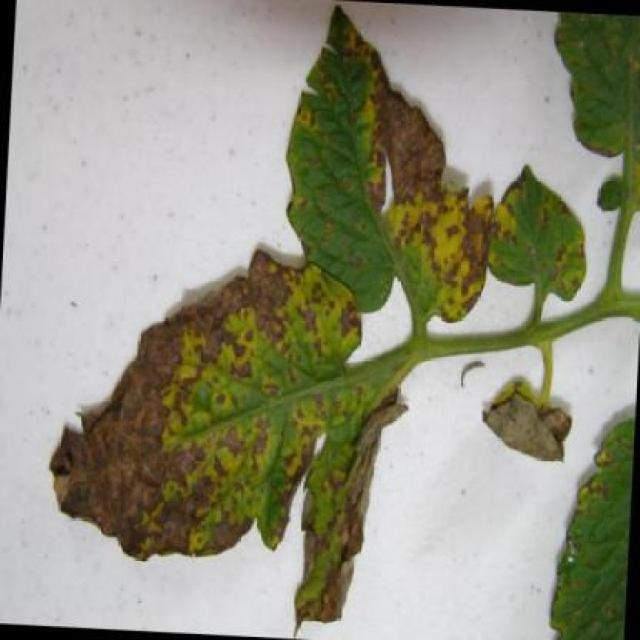Septoria leaf spot: (31, 239, 374, 571), (267, 1, 520, 343), (282, 382, 426, 638), (538, 376, 638, 640), (539, 15, 640, 229), (478, 155, 592, 313)
